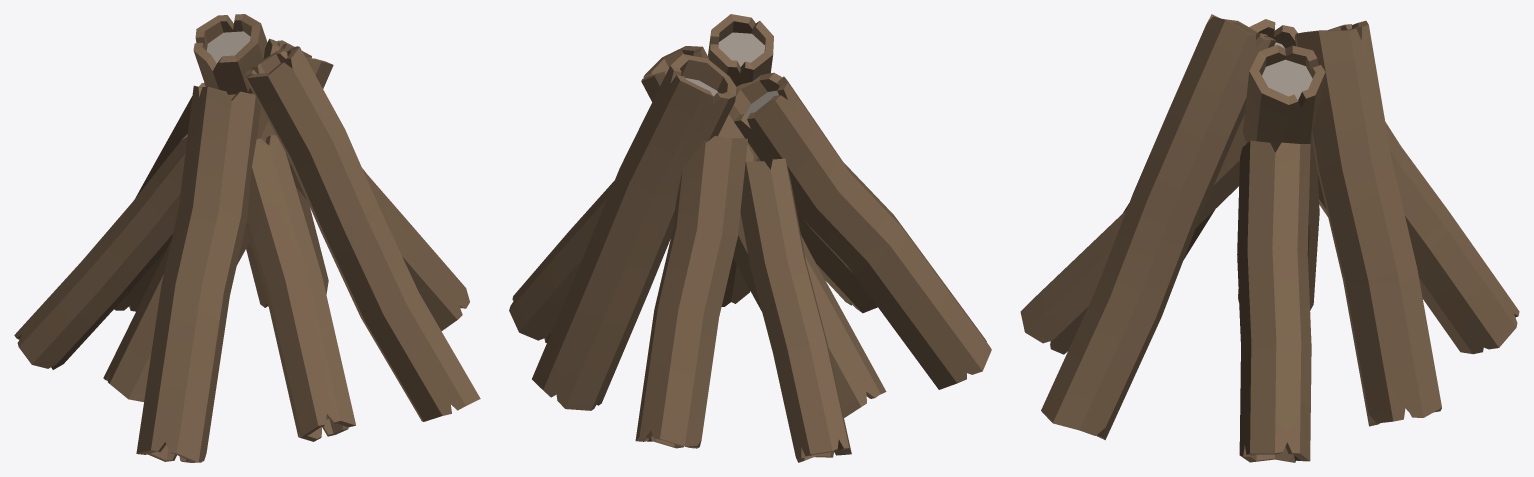
Rendered from FireWood_01.fbx.
3 renders of one model, left to right at view 1: azimuth 30°, elevation 25°; view 2: azimuth 150°, elevation 25°; view 3: azimuth 270°, elevation 25°, orthographic. The views are drawn at different scales.
Parts seen in each view (by area): view 1: FireWood_01_LOD0; view 2: FireWood_01_LOD0; view 3: FireWood_01_LOD0.
Part boxes in pixels (x1=…): FireWood_01_LOD0: x1=14, y1=14, x2=480, y2=462; FireWood_01_LOD0: x1=509, y1=14, x2=991, y2=462; FireWood_01_LOD0: x1=1020, y1=14, x2=1519, y2=462.
Size of what is drawn, in the model's own units: 0.5734 by 0.4867 by 0.5761.
